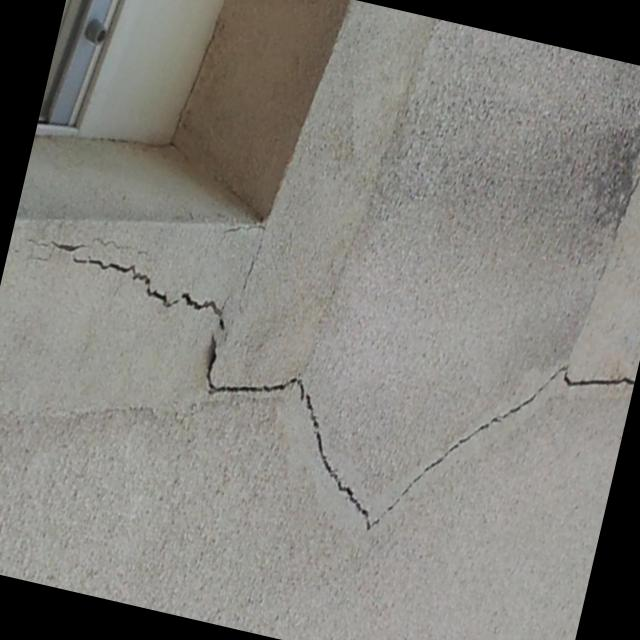crack: (205, 330, 636, 529), (69, 253, 228, 333)
